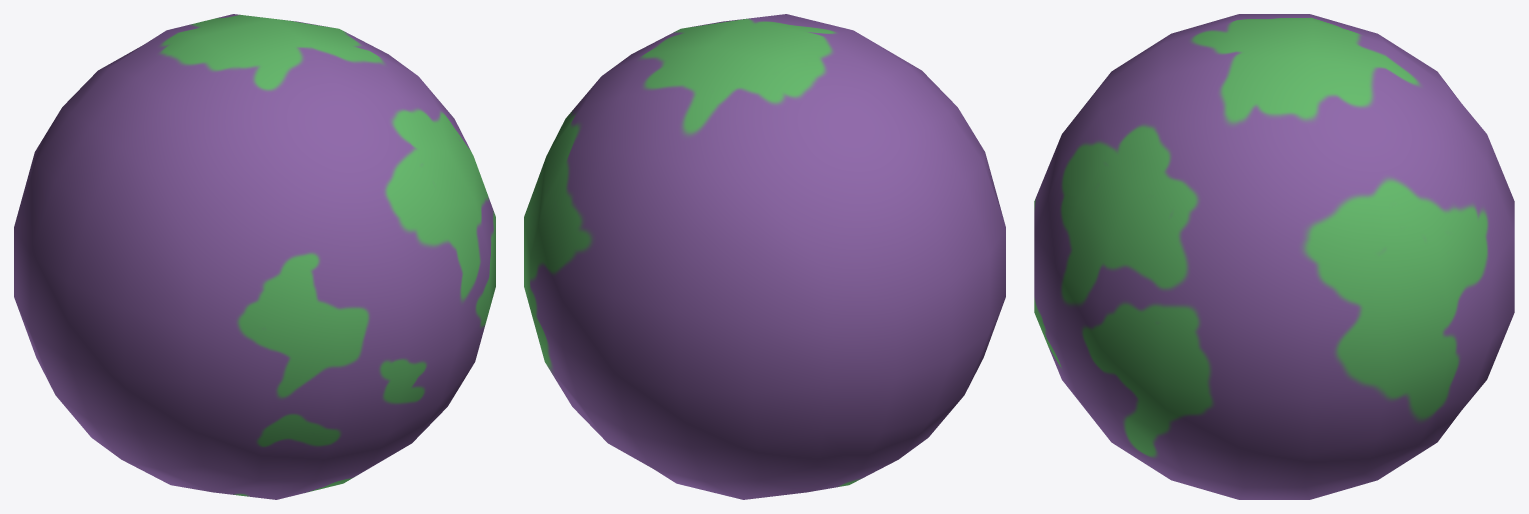
The model's file is Model_Prop_Planet.fbx.
The picture shows the model from 3 angles, left to right: view 1: azimuth 30°, elevation 25°; view 2: azimuth 150°, elevation 25°; view 3: azimuth 270°, elevation 25°; orthographic projection.
Visible parts, largest first — view 1: Cube.140; view 2: Cube.140; view 3: Cube.140.
Part boxes in pixels (left/top/right/bottom): Cube.140: left=14, top=14, right=495, bottom=499; Cube.140: left=524, top=14, right=1005, bottom=499; Cube.140: left=1034, top=14, right=1514, bottom=499.
Size of the model in its own units: 3.36 by 3.36 by 3.36.
